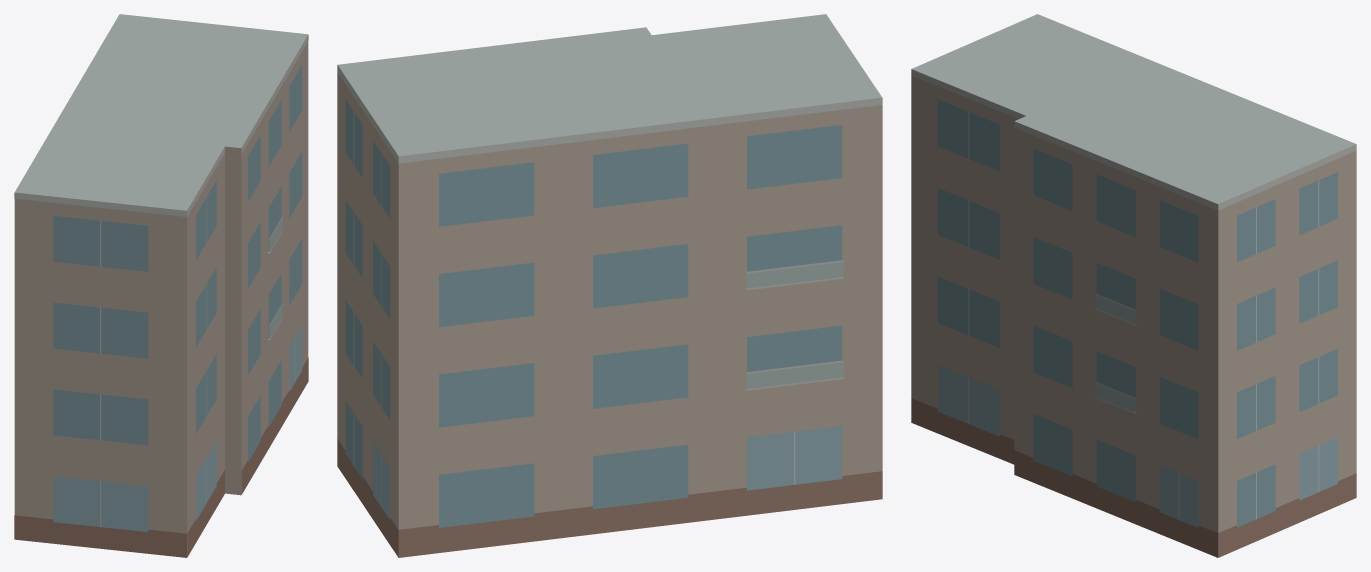
The model's file is survey-upis-33016449.glb.
The picture shows the model from 3 angles, left to right: view 1: azimuth 30°, elevation 25°; view 2: azimuth 150°, elevation 25°; view 3: azimuth 270°, elevation 25°; orthographic projection. The views are drawn at different scales.
Parts seen in each view (by area): view 1: survey-upis-33016449.tmp; view 2: survey-upis-33016449.tmp; view 3: survey-upis-33016449.tmp.
Part boxes in pixels (box(x1,y1,x2,y2)): survey-upis-33016449.tmp: box(14, 14, 308, 557); survey-upis-33016449.tmp: box(337, 14, 882, 557); survey-upis-33016449.tmp: box(911, 14, 1356, 557).
Size of the model in its own units: 15.7 by 13.6 by 15.53.
